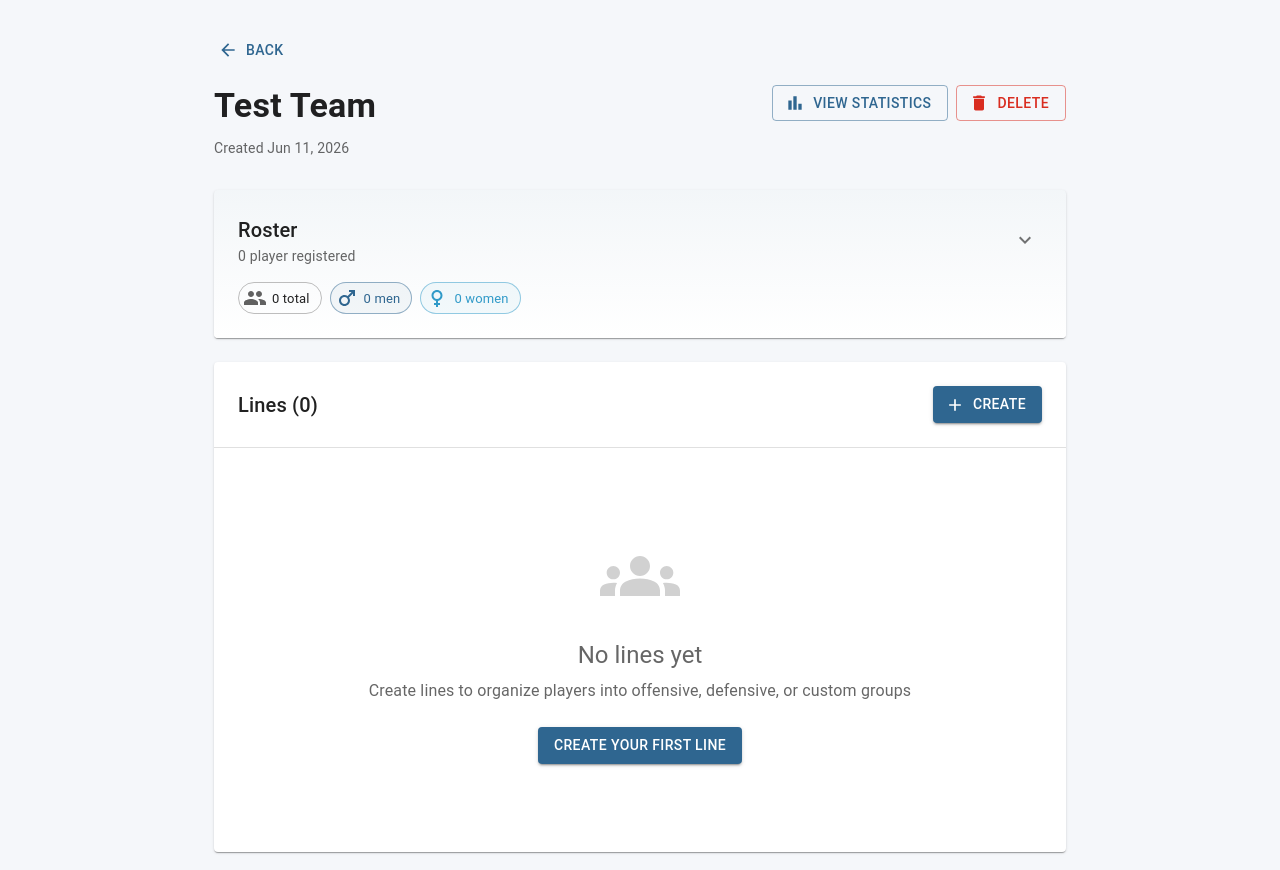
Test: TeamDetailPage - Player Management › allows user to edit a player
expect the heading "Test Team" is shown: met, box top-left (214, 84), bottom-right (376, 126)
Step 1. Click the button named "show players" → {"x": 1025, "y": 240}, box top-left (1008, 223), bottom-right (1042, 257)
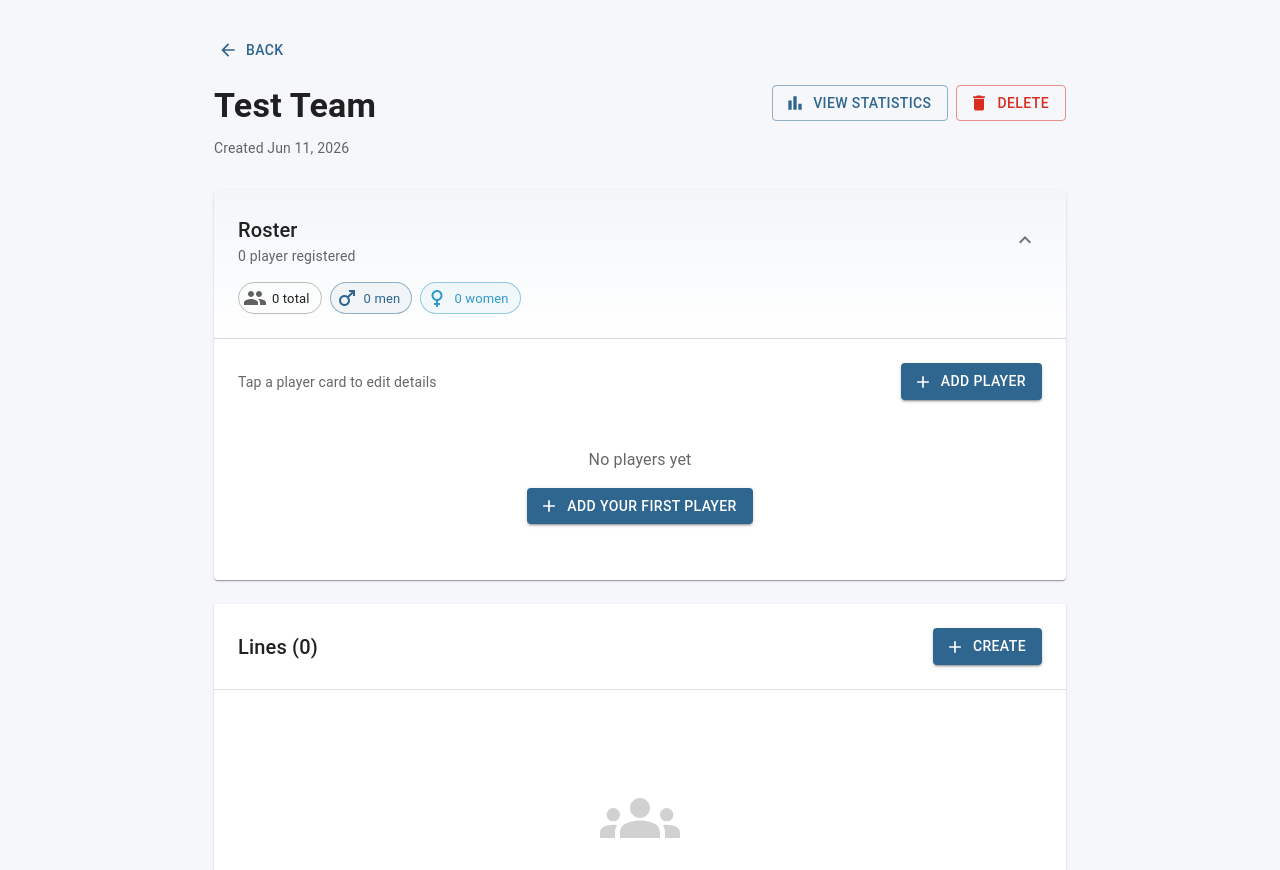
Step 2. Click the button "Add Player" → {"x": 971, "y": 382}, box top-left (901, 363), bottom-right (1042, 400)
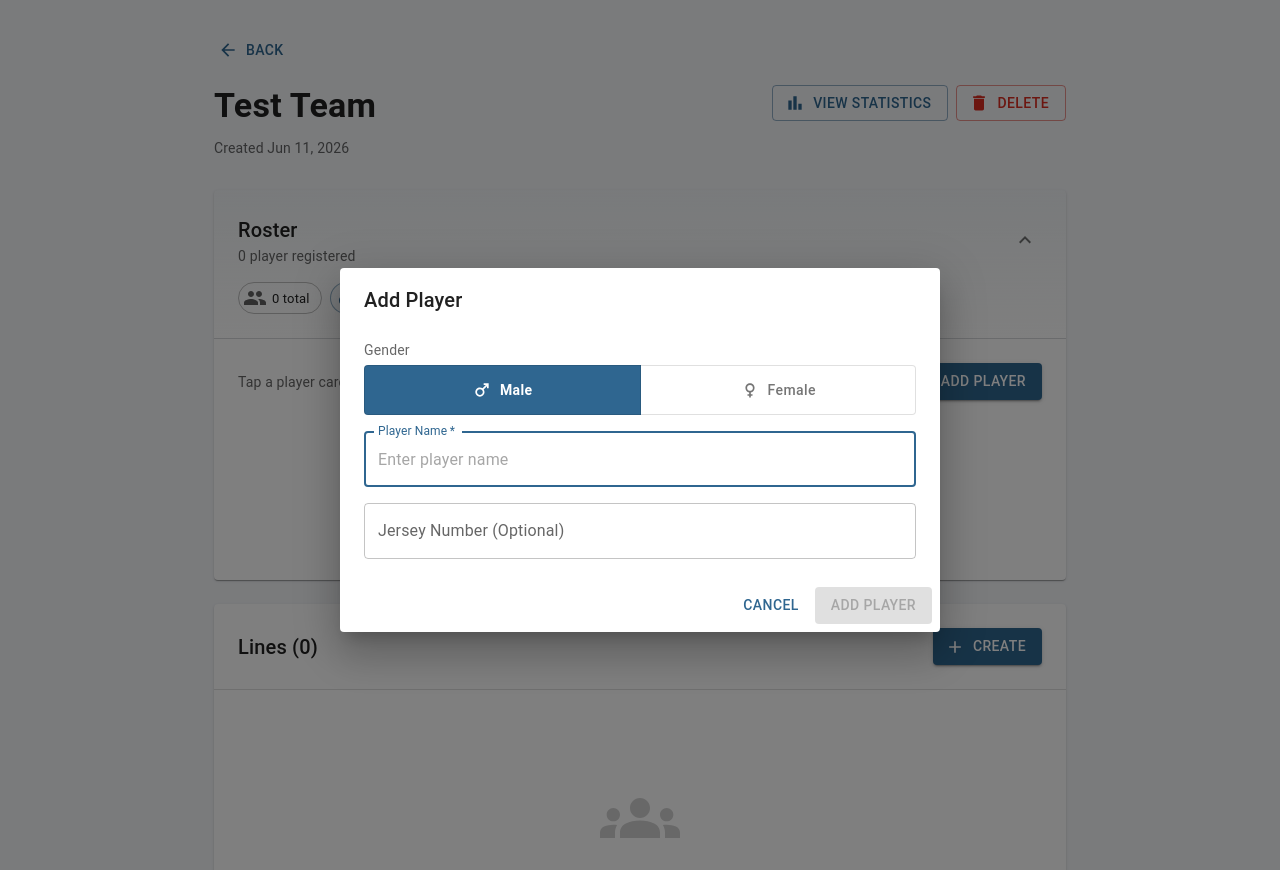
expect the dialog is shown: met, box top-left (340, 268), bottom-right (940, 632)
Step 3. Type "Jane Smith" into the field labelled "Player Name *" → {"x": 640, "y": 460}, box top-left (364, 432), bottom-right (916, 488)
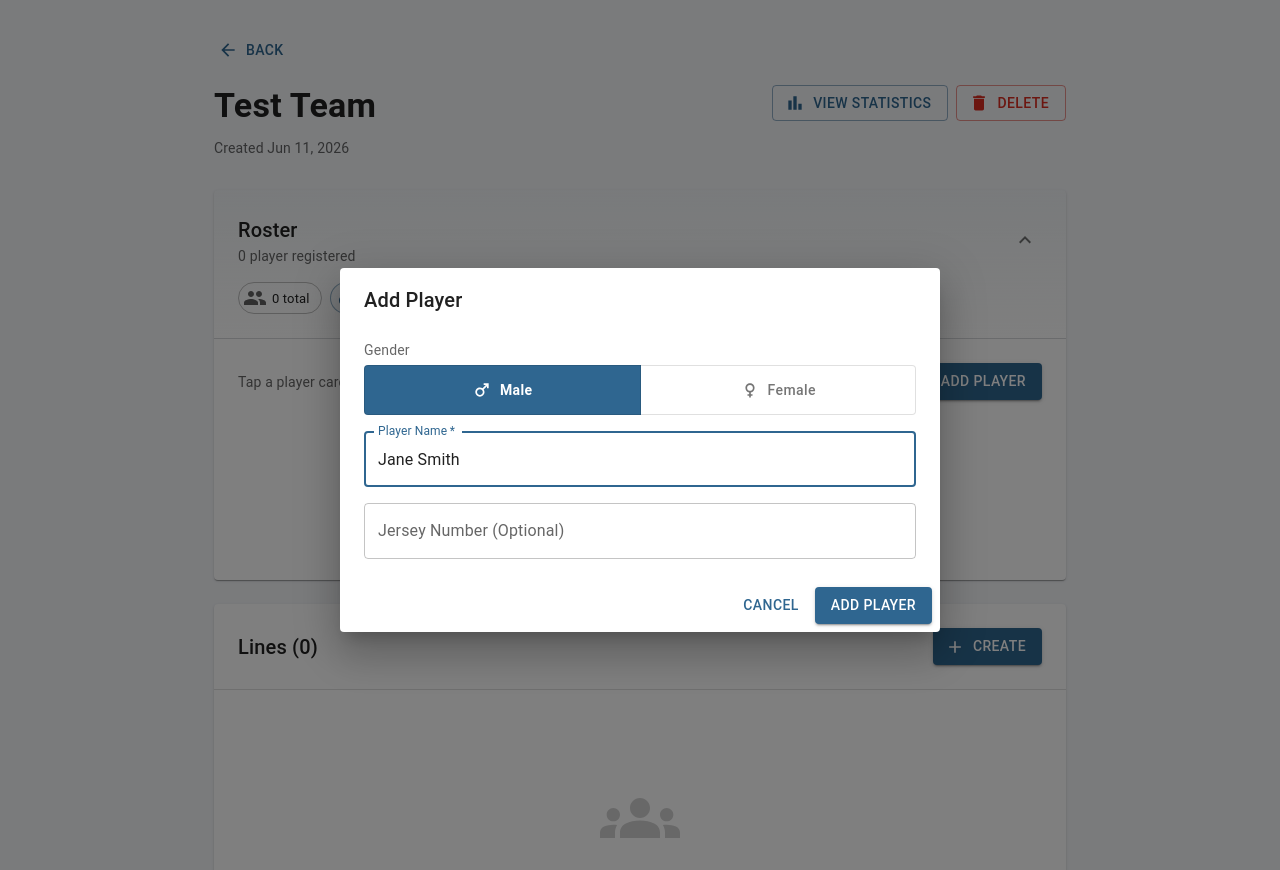
expect the button "Add Player" is shown: met
Step 4. Click the button "Add Player" → {"x": 873, "y": 606}, box top-left (815, 588), bottom-right (932, 624)
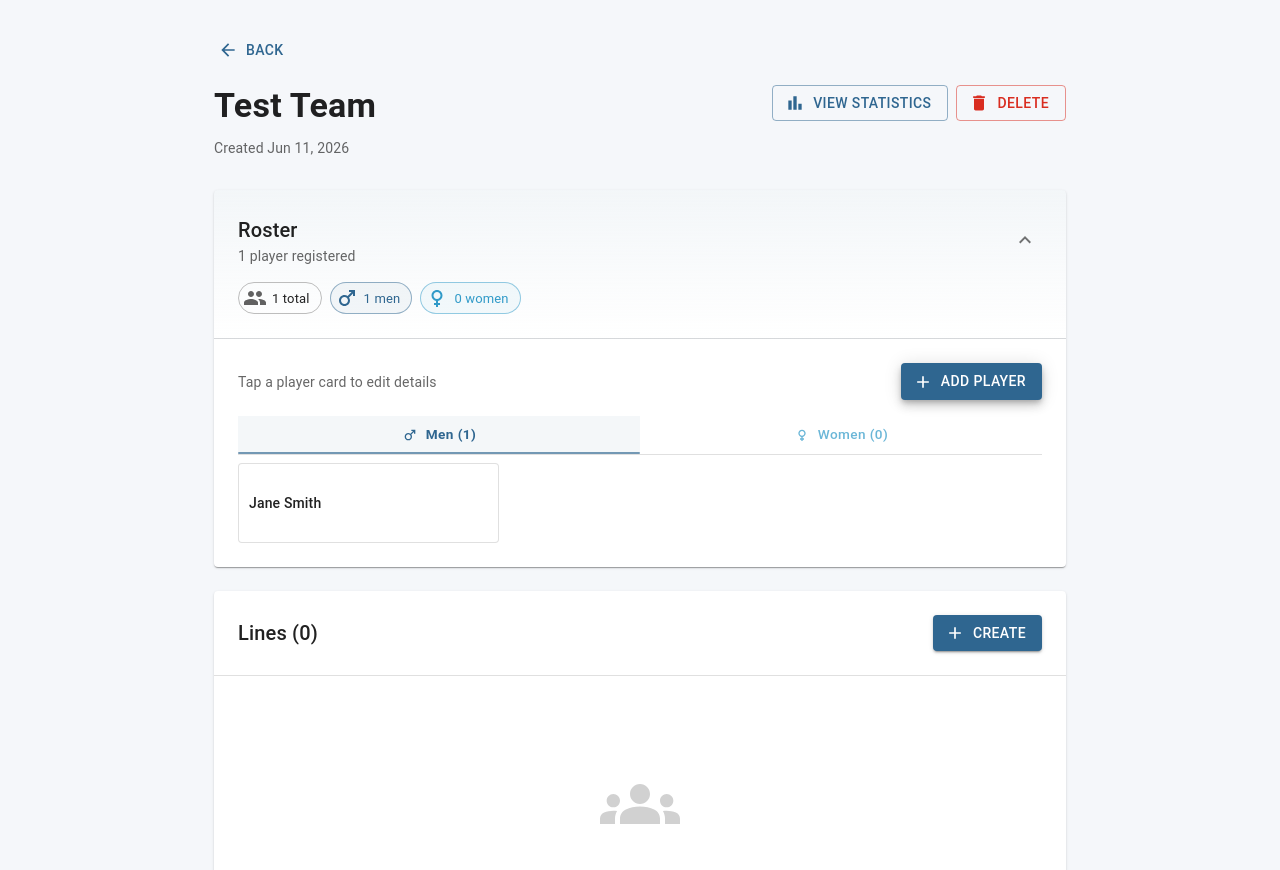
expect the dialog is gone: met
expect the text "Jane Smith" is shown: met, box top-left (249, 493), bottom-right (321, 513)
Step 5. Click the button "Jane Smith" → {"x": 369, "y": 503}, box top-left (239, 464), bottom-right (498, 542)
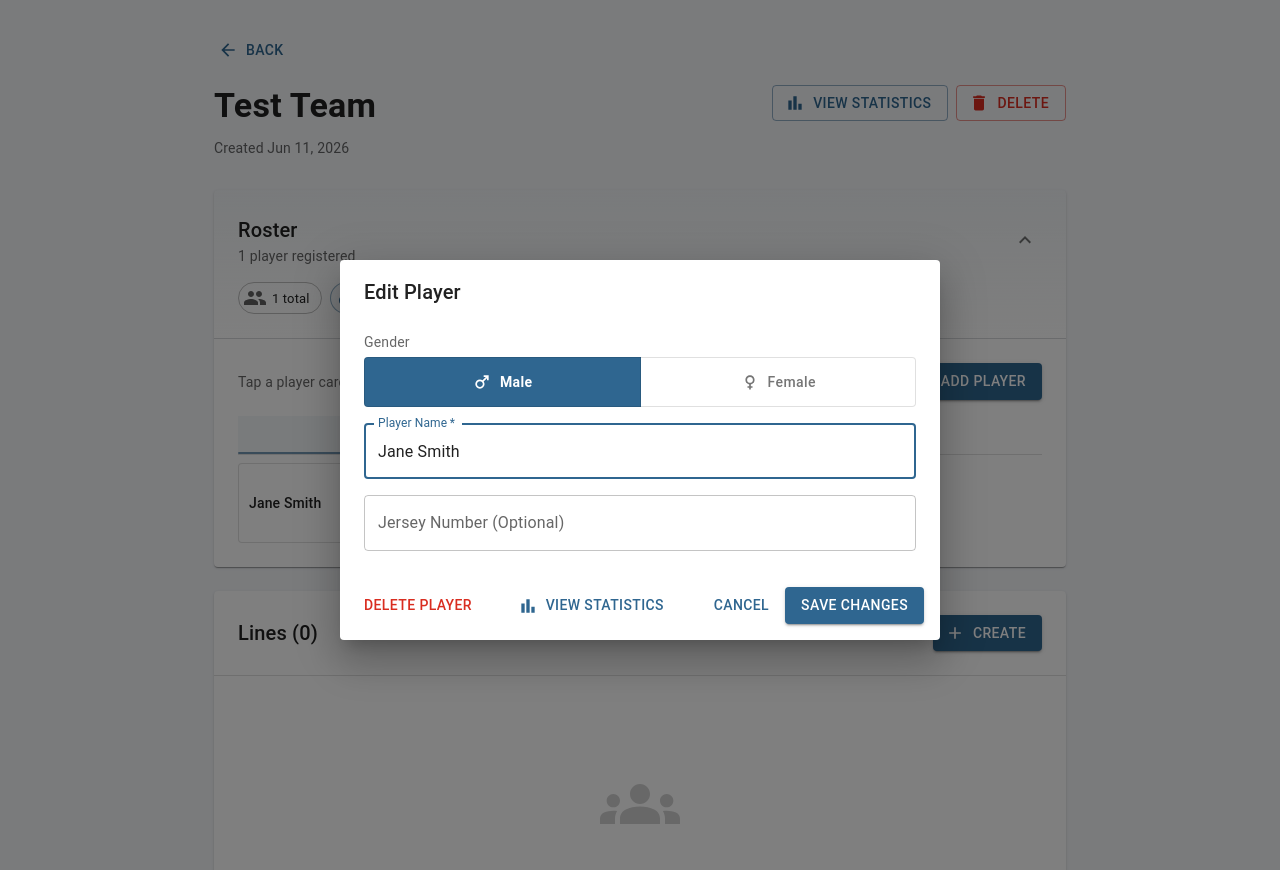
expect the heading "Edit Player" is shown: met, box top-left (364, 280), bottom-right (461, 304)
Note: Change the name
Step 6. Replace the text in the field labelled "Player Name *" with "Jane Doe" → {"x": 640, "y": 452}, box top-left (364, 424), bottom-right (916, 480)
Note: Save changes
Step 7. Click the button "Save Changes" → {"x": 855, "y": 606}, box top-left (785, 588), bottom-right (924, 624)
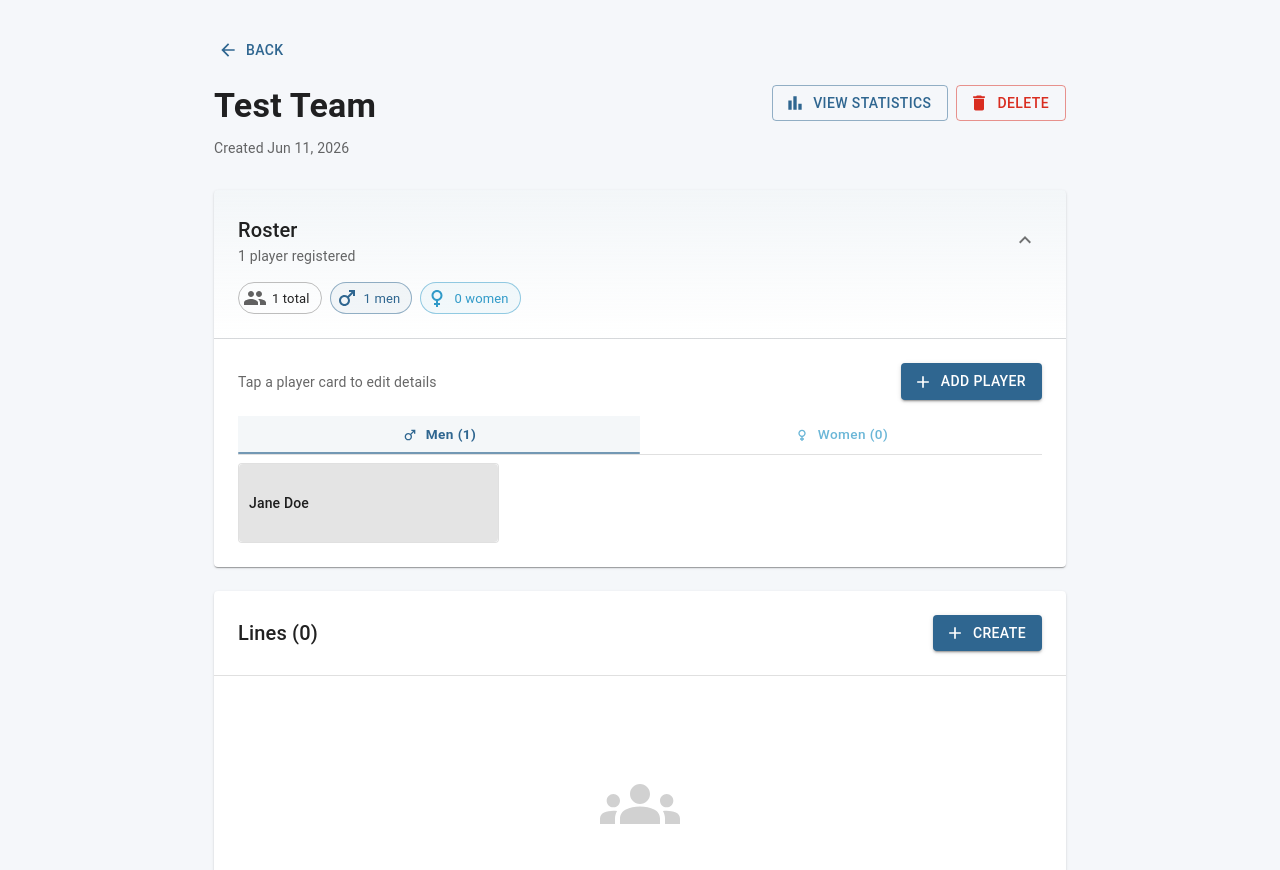
expect the dialog is gone: met
expect the text "Jane Doe" is shown: met, box top-left (249, 493), bottom-right (309, 513)
expect the button "Jane Smith" is gone: met
